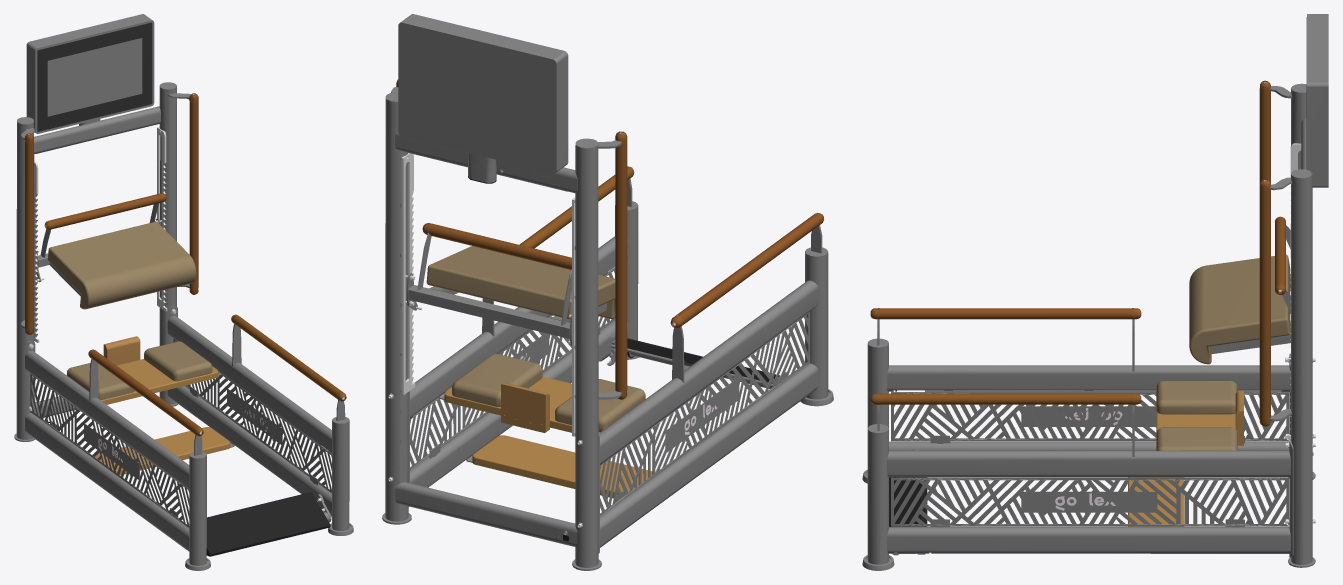
Rendered from stretchmachine.glb.
The picture shows the model from 3 angles, left to right: view 1: azimuth 30°, elevation 25°; view 2: azimuth 150°, elevation 25°; view 3: azimuth 270°, elevation 25°; orthographic projection. The views are drawn at different scales.
Parts seen in each view (by area): view 1: stretchmachine; view 2: stretchmachine; view 3: stretchmachine.
Boxes of the visible parts, bbox=[...] form: stretchmachine: bbox=[14, 14, 353, 570]; stretchmachine: bbox=[382, 14, 833, 570]; stretchmachine: bbox=[862, 14, 1328, 570].
Size of the model in its own units: 0.8702 by 1.86 by 1.66.
